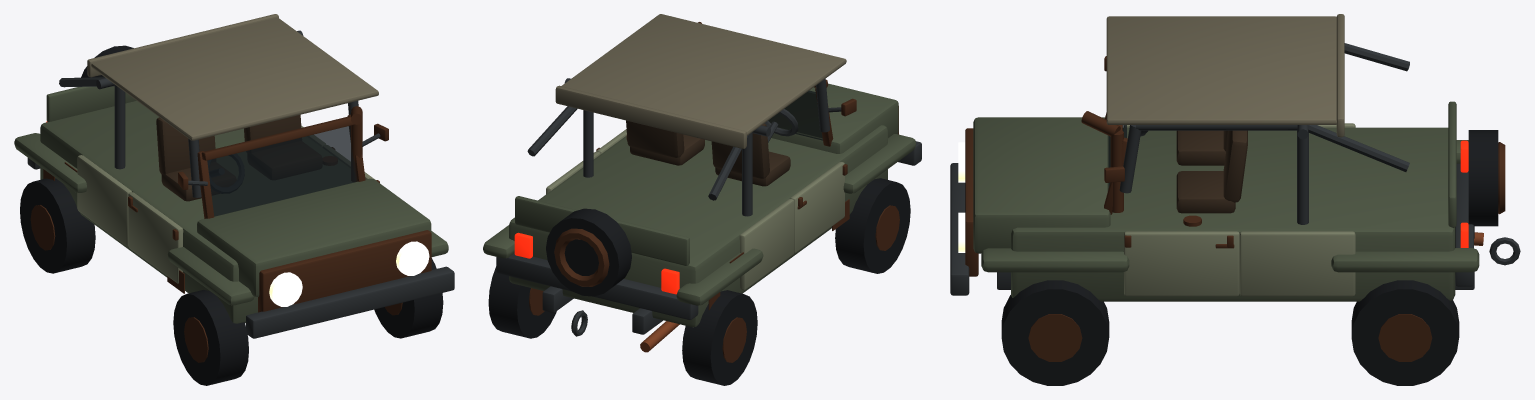
Rendered from jeep.glb.
3 renders of one model, left to right at view 1: azimuth 30°, elevation 25°; view 2: azimuth 150°, elevation 25°; view 3: azimuth 270°, elevation 25°, orthographic. The views are drawn at different scales.
Visible parts, largest first — view 1: jeep; view 2: jeep; view 3: jeep.
Boxes of the visible parts, x1=… form: jeep: x1=14, y1=14, x2=454, y2=385; jeep: x1=483, y1=14, x2=921, y2=385; jeep: x1=950, y1=14, x2=1520, y2=385.
Size of the model in its own units: 2.2 by 2.12 by 4.24.
